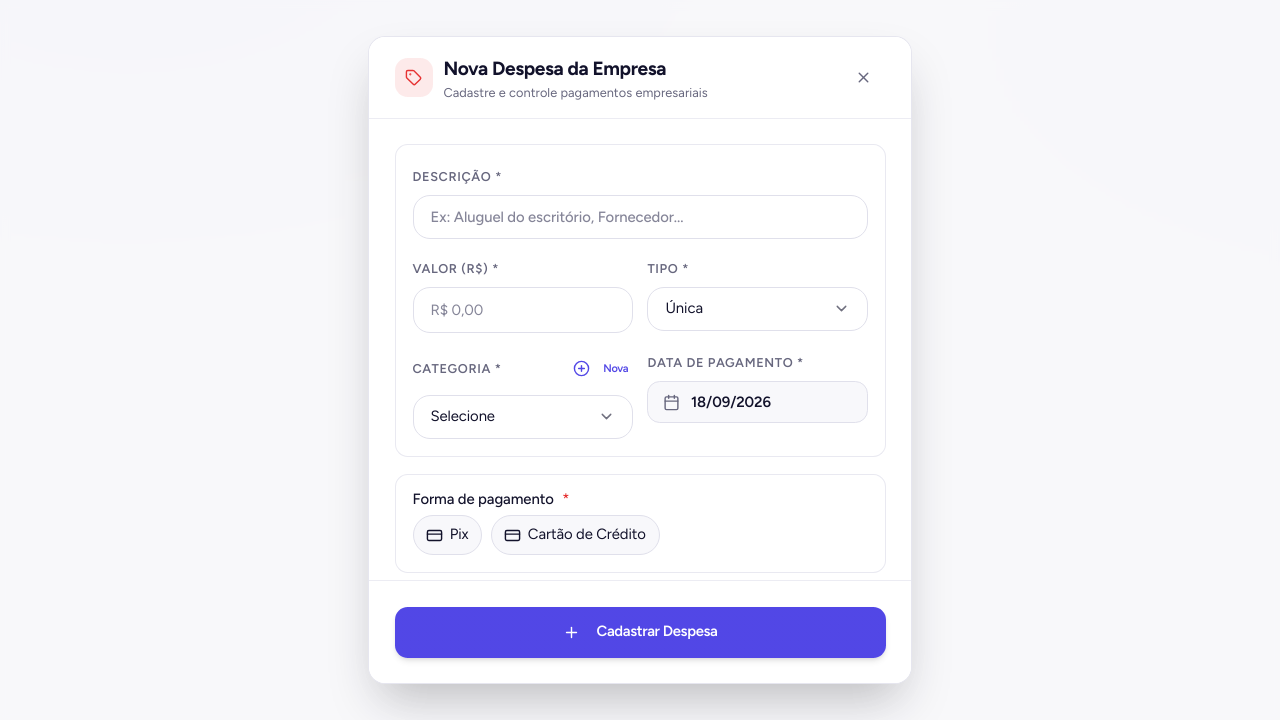
Test: useBusinessExpenseCategories & BusinessCategoryCreatorDialog › renderiza o botão '+ Nova' e abre o modal de criação de categoria no ExpenseForm
Click the button "Nova" at (601, 368), box 569,348 -> 632,388
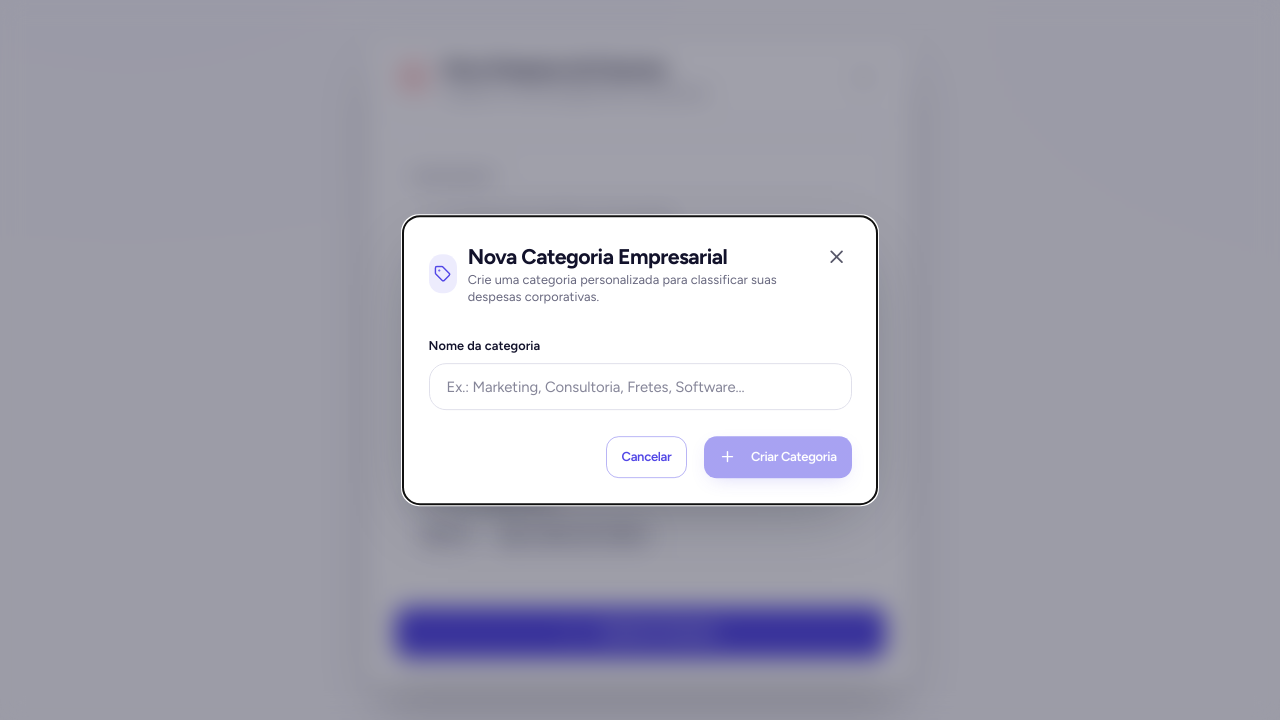
Result: the heading "Nova Categoria Empresarial" is shown at 468,244 -> 727,269
